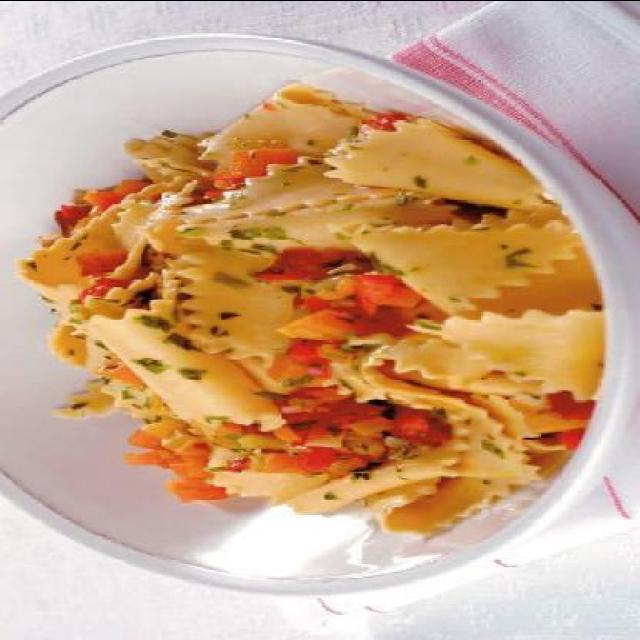Pasta al ragu: (8, 61, 592, 544)
